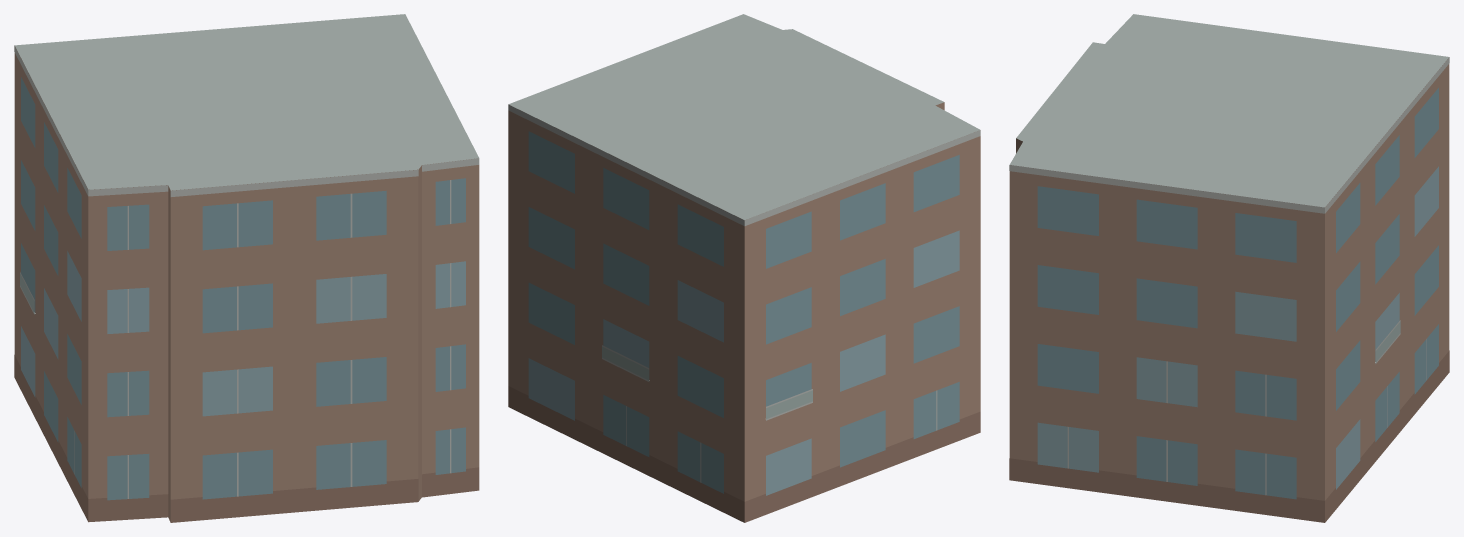
Rendered from survey-upis-32710343.glb.
3 renders of one model, left to right at view 1: azimuth 30°, elevation 25°; view 2: azimuth 150°, elevation 25°; view 3: azimuth 270°, elevation 25°, orthographic. The views are drawn at different scales.
Parts seen in each view (by area): view 1: survey-upis-32710343.tmp; view 2: survey-upis-32710343.tmp; view 3: survey-upis-32710343.tmp.
Part boxes in pixels (bbox=[...]): survey-upis-32710343.tmp: bbox=[14, 14, 479, 522]; survey-upis-32710343.tmp: bbox=[508, 14, 980, 522]; survey-upis-32710343.tmp: bbox=[1009, 14, 1449, 522].
Bounding box in the file's own units: 16.06 × 12.2 × 15.43.
